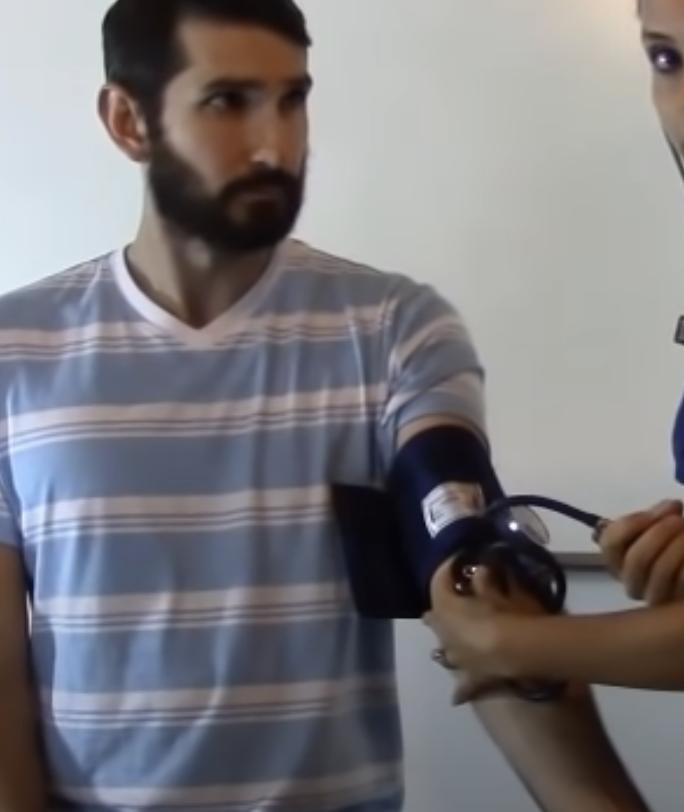cuff: (376, 427, 550, 622)
